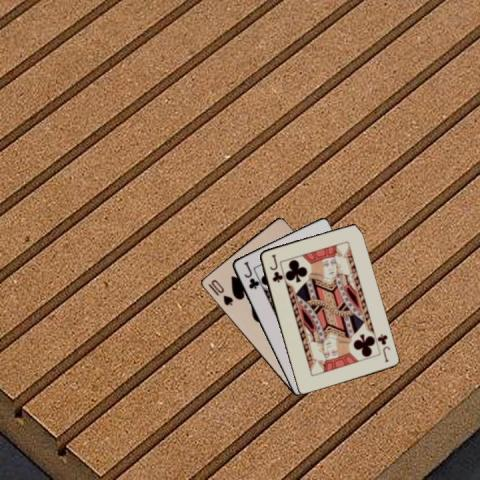10s: (208, 277, 234, 307)
Jc: (266, 251, 283, 284), (241, 259, 259, 290), (374, 331, 391, 363)
